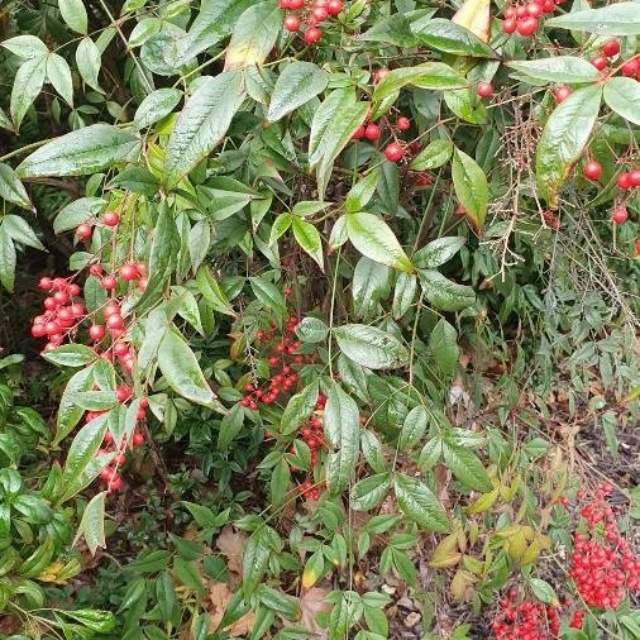obstacle: (280, 73, 448, 532), (65, 137, 244, 546), (481, 3, 607, 188)
